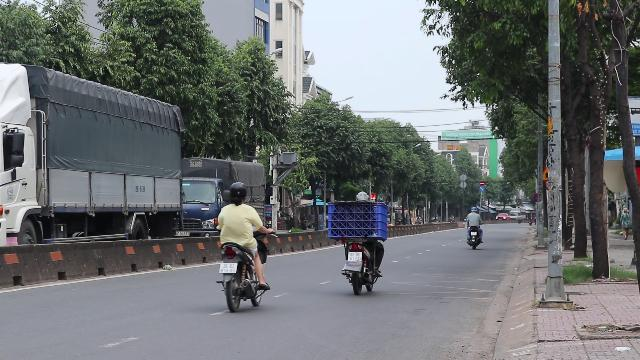helmet: (227, 181, 247, 203), (354, 191, 368, 203)
licenseplate: (220, 263, 237, 273), (348, 252, 362, 260)
motorcyclist: (213, 181, 271, 311), (326, 190, 389, 295)
